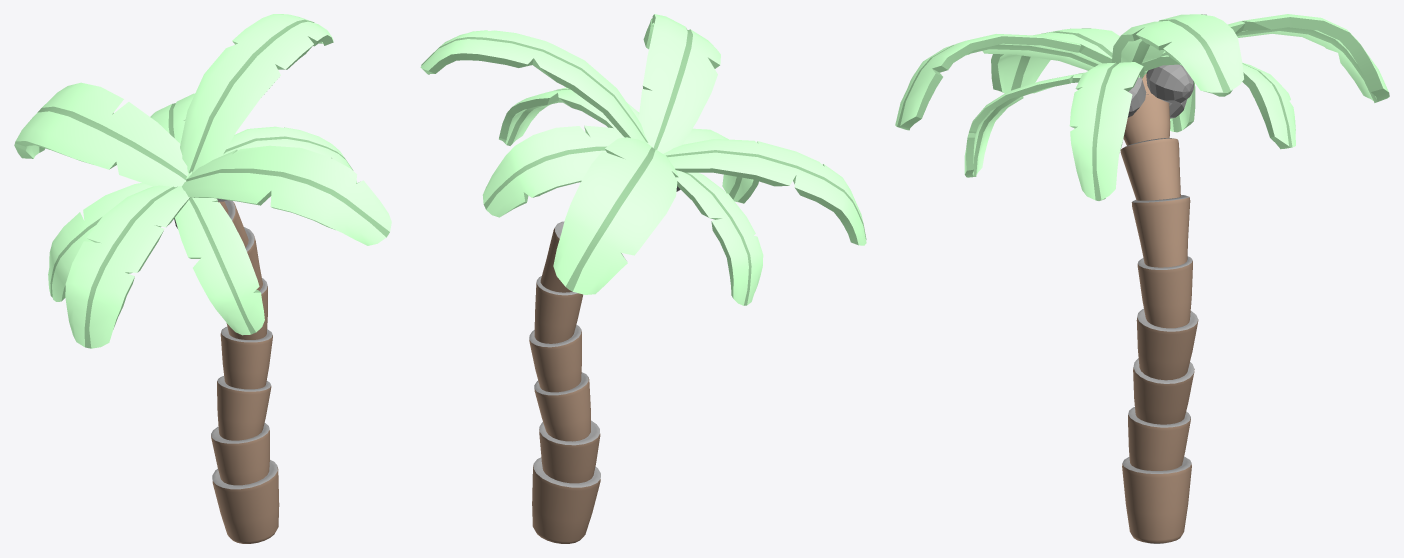
Rendered from PalmTree1.fbx.
The picture shows the model from 3 angles, left to right: view 1: azimuth 30°, elevation 25°; view 2: azimuth 150°, elevation 25°; view 3: azimuth 270°, elevation 25°; orthographic projection. The views are drawn at different scales.
Parts seen in each view (by area): view 1: leaf_4, leaf_3, leaf_2, leaf_1, leaf_8, tree_trunk_1, leaf_5, tree_trunk_3, tree_trunk_2, tree_trunk_4, leaf_6, leaf_7 (+2 smaller); view 2: leaf_3, leaf_4, leaf_1, leaf_2, leaf_7, leaf_5, tree_trunk_1, tree_trunk_3, tree_trunk_2, tree_trunk_4, tree_trunk_5, leaf_6 (+2 smaller); view 3: leaf_6, leaf_2, leaf_4, tree_trunk_1, leaf_3, tree_trunk_6, tree_trunk_7, tree_trunk_5, tree_trunk_4, leaf_1, tree_trunk_2, leaf_7 (+4 smaller).
Part boxes in pixels (box(x1,y1,x2,y2)): leaf_4: box(182, 145, 391, 245); leaf_3: box(14, 82, 188, 187); leaf_2: box(180, 14, 333, 173); leaf_1: box(65, 185, 190, 348); leaf_8: box(175, 197, 264, 335); tree_trunk_1: box(212, 460, 279, 543); leaf_5: box(48, 183, 152, 301); tree_trunk_3: box(217, 376, 271, 440); tree_trunk_2: box(211, 423, 269, 485); tree_trunk_4: box(220, 327, 272, 389); leaf_6: box(222, 126, 356, 183); leaf_7: box(150, 93, 194, 179); leaf_3: box(553, 137, 678, 294); leaf_4: box(638, 14, 720, 153); leaf_1: box(663, 139, 866, 245); leaf_2: box(420, 30, 648, 142); leaf_7: box(482, 125, 649, 217); leaf_5: box(676, 170, 763, 305); tree_trunk_1: box(532, 457, 600, 543); tree_trunk_3: box(534, 372, 590, 441); tree_trunk_2: box(539, 420, 600, 483); tree_trunk_4: box(529, 325, 581, 392); tree_trunk_5: box(534, 276, 582, 343); leaf_6: box(499, 87, 639, 145); leaf_6: box(1069, 62, 1144, 200); leaf_2: box(1111, 14, 1243, 96); leaf_4: box(895, 34, 1111, 130); tree_trunk_1: box(1122, 456, 1191, 543); leaf_3: box(1143, 14, 1389, 102); tree_trunk_6: box(1131, 195, 1190, 267); tree_trunk_7: box(1120, 138, 1180, 200); tree_trunk_5: box(1137, 256, 1192, 328); tree_trunk_4: box(1136, 308, 1198, 380); leaf_1: box(991, 28, 1119, 93); tree_trunk_2: box(1128, 407, 1190, 470); leaf_7: box(1140, 55, 1295, 149).
Bounding box in the file's own units: 259 × 354 × 295.
